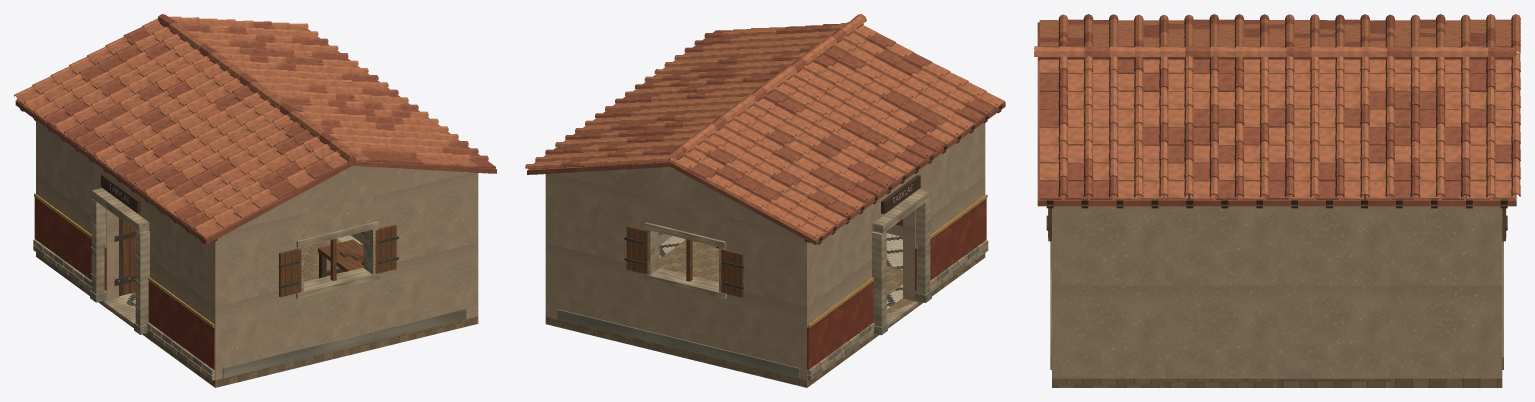
Rendered from valdora_council.glb.
3 renders of one model, left to right at view 1: azimuth 30°, elevation 25°; view 2: azimuth 150°, elevation 25°; view 3: azimuth 270°, elevation 25°, orthographic. The views are drawn at different scales.
Visible parts, largest first — view 1: CouncilTileRoof, CouncilRoom, CouncilFacade, CouncilDoorLeaf_Open, CouncilFurnishings; view 2: CouncilTileRoof, CouncilRoom, CouncilFacade; view 3: CouncilTileRoof, CouncilRoom.
Boxes of the visible parts, x1=… form: CouncilTileRoof: x1=14, y1=14, x2=496, y2=244; CouncilRoom: x1=36, y1=122, x2=478, y2=387; CouncilFacade: x1=33, y1=121, x2=227, y2=380; CouncilDoorLeaf_Open: x1=114, y1=218, x2=135, y2=296; CouncilFurnishings: x1=318, y1=239, x2=363, y2=278; CouncilTileRoof: x1=525, y1=14, x2=1005, y2=245; CouncilRoom: x1=545, y1=123, x2=985, y2=387; CouncilFacade: x1=795, y1=123, x2=988, y2=380; CouncilTileRoof: x1=1034, y1=14, x2=1520, y2=208; CouncilRoom: x1=1046, y1=206, x2=1507, y2=387.
Size of the model in its own units: 6.78 by 4.6 by 7.78.
Materials: 1 (1 with a texture image).
